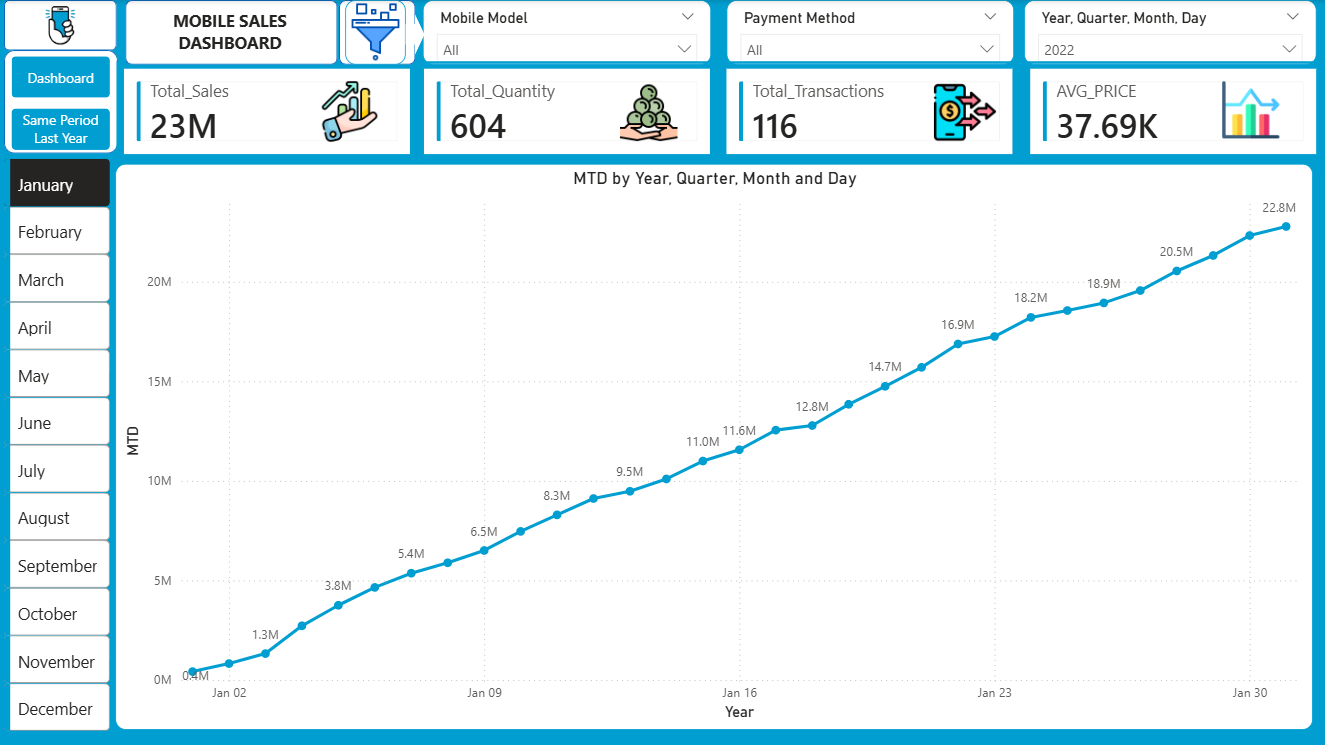

The dashboard page shown, as its layout file describes it:
{"tool":"powerbi","page":{"name":"MTD Report","canvas":[1280,720],"ordinal":1},"visuals":[{"type":"shape","box":[5,0,108.8,48.8],"z":0},{"type":"image","box":[5,0,108.8,48.8],"z":1000},{"type":"shape","box":[5,48.8,110,100],"z":2000},{"type":"cardVisual","fields":{"Data":["Sales_Data.Total_Sales"]},"box":[113.8,58.8,292.5,98.8],"z":3000},{"type":"image","box":[290,78.8,97.5,58.8],"z":4000},{"type":"slicer","fields":{"Values":["Sales_Data.Mobile Model"]},"box":[408.8,0,278.8,62.5],"z":5000},{"type":"slicer","fields":{"Values":["Sales_Data.Payment Method"]},"box":[702.5,0,277.5,62.5],"z":6000},{"type":"slicer","fields":{"Values":["Custom_Calender.Date.Variation.Date Hierarchy.Year","Custom_Calender.Date.Variation.Date Hierarchy.Quarter","Custom_Calender.Date.Variation.Date Hierarchy.Month","Custom_Calender.Date.Variation.Date Hierarchy.Day"]},"box":[988.8,0,282.5,62.5],"z":7000},{"type":"cardVisual","fields":{"Data":["Sales_Data.Total_Quantity"]},"box":[402.5,58.8,292.5,98.8],"z":8000},{"type":"cardVisual","fields":{"Data":["Sales_Data.Total_Transactions"]},"box":[695,58.8,292.5,98.8],"z":9000},{"type":"cardVisual","fields":{"Data":["Sales_Data.AVG_PRICE"]},"box":[987.5,58.8,292.5,98.8],"z":10000},{"type":"image","box":[583.8,80,86.2,58.8],"z":11000},{"type":"image","box":[890,78.8,83.8,60],"z":12000},{"type":"image","box":[1158.8,78.8,100,55],"z":13000},{"type":"shape","box":[328.8,0,73.8,62.5],"z":14000},{"type":"image","box":[333.8,0,58.8,62.5],"z":15000},{"type":"shape","box":[392.5,13.8,18.8,40],"z":16000},{"type":"shape","box":[121.2,0,205,62.5],"z":17000},{"type":"textbox","box":[131.2,3.8,182.5,55],"z":18000},{"type":"lineChart","fields":{"Y":["Sales_Data.MTD"],"Category":["Custom_Calender.Date.Variation.Date Hierarchy.Year","Custom_Calender.Date.Variation.Date Hierarchy.Quarter","Custom_Calender.Date.Variation.Date Hierarchy.Month","Custom_Calender.Date.Variation.Date Hierarchy.Day"]},"box":[112.5,157.5,1156.2,546.2],"z":19000},{"type":"advancedSlicerVisual","fields":{"Values":["Custom_Calender.Date.Variation.Date Hierarchy.Month"]},"box":[0,148.8,112.5,571.2],"z":20000},{"type":"pageNavigator","box":[12.5,53.8,95,90],"z":21000}]}

Visuals, with their boxes in screenshot pixels (x1, y1, x2, y2), scaled from the page's 1280x720 canvas onto the 1325x745 screenshot:
shape: x1=5 y1=0 x2=118 y2=50
image: x1=5 y1=0 x2=118 y2=50
shape: x1=5 y1=50 x2=119 y2=154
cardVisual - Sales_Data.Total_Sales: x1=118 y1=61 x2=421 y2=163
image: x1=300 y1=82 x2=401 y2=142
slicer - Sales_Data.Mobile Model: x1=423 y1=0 x2=712 y2=65
slicer - Sales_Data.Payment Method: x1=727 y1=0 x2=1014 y2=65
slicer - Custom_Calender.Date.Variation.Date Hierarchy.Year x Custom_Calender.Date.Variation.Date Hierarchy.Quarter: x1=1024 y1=0 x2=1316 y2=65
cardVisual - Sales_Data.Total_Quantity: x1=417 y1=61 x2=719 y2=163
cardVisual - Sales_Data.Total_Transactions: x1=719 y1=61 x2=1022 y2=163
cardVisual - Sales_Data.AVG_PRICE: x1=1022 y1=61 x2=1324 y2=163
image: x1=604 y1=83 x2=694 y2=144
image: x1=921 y1=82 x2=1008 y2=144
image: x1=1200 y1=82 x2=1303 y2=138
shape: x1=340 y1=0 x2=417 y2=65
image: x1=346 y1=0 x2=406 y2=65
shape: x1=406 y1=14 x2=426 y2=56
shape: x1=125 y1=0 x2=338 y2=65
textbox: x1=136 y1=4 x2=325 y2=61
lineChart - Sales_Data.MTD x Custom_Calender.Date.Variation.Date Hierarchy.Year: x1=116 y1=163 x2=1313 y2=728
advancedSlicerVisual - Custom_Calender.Date.Variation.Date Hierarchy.Month: x1=0 y1=154 x2=116 y2=744
pageNavigator: x1=13 y1=56 x2=111 y2=149
